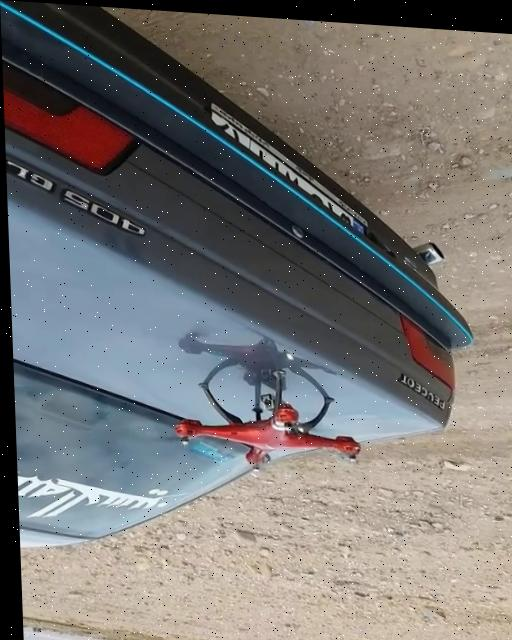drone: (151, 360, 365, 477)
